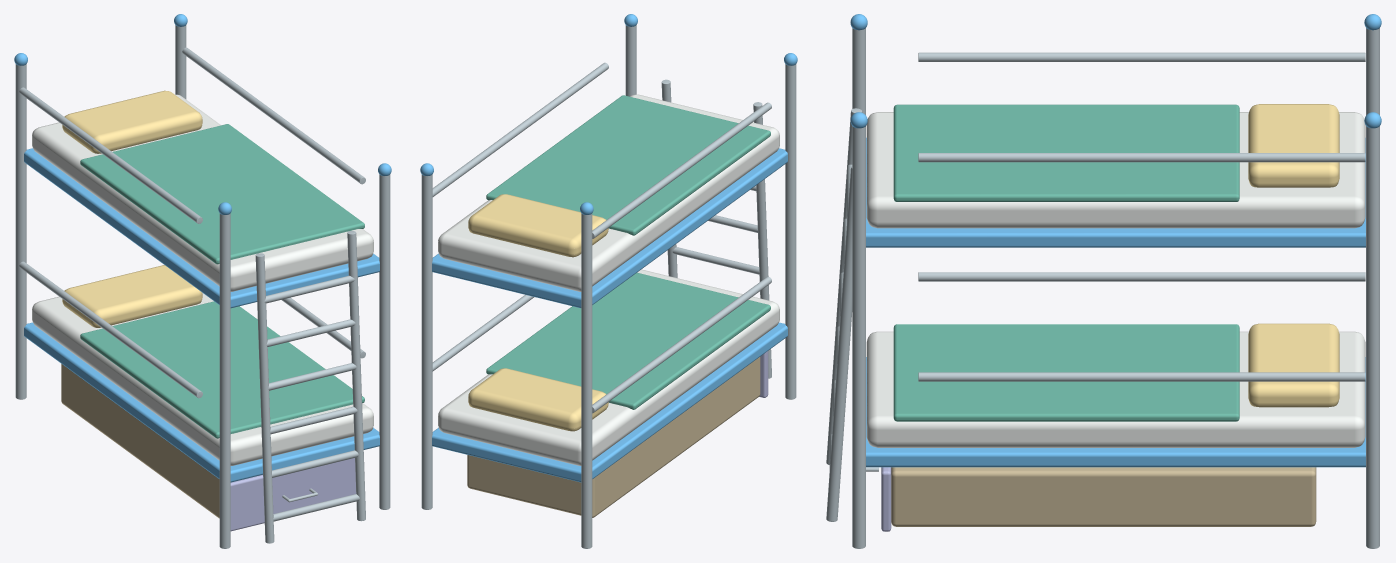
The model's file is bunk_bed.glb.
The picture shows the model from 3 angles, left to right: view 1: azimuth 30°, elevation 25°; view 2: azimuth 150°, elevation 25°; view 3: azimuth 270°, elevation 25°; orthographic projection. The views are drawn at different scales.
Visible parts, largest first — view 1: Blanket_2, Blanket, Mattress_2, Mattress, Storage_Box, Bed_Frame, Bed_Frame_2, Pillow_2, Pillow, Storage_Front, Bed_Post_2, Bed_Post_4 (+14 smaller); view 2: Blanket_2, Blanket, Storage_Box, Mattress_2, Mattress, Bed_Frame, Bed_Frame_2, Pillow, Pillow_2, Bed_Post, Bed_Post_3, Bed_Post_2 (+8 smaller); view 3: Blanket, Blanket_2, Storage_Box, Mattress_2, Mattress, Bed_Frame, Bed_Frame_2, Pillow, Pillow_2, Bed_Post_3, Bed_Post_4, Safety_Rail (+8 smaller).
Part boxes in pixels (x1,y1,x2,y2): Blanket_2: [80, 124, 364, 264]; Blanket: [80, 301, 364, 438]; Mattress_2: [32, 94, 373, 291]; Mattress: [32, 293, 373, 465]; Storage_Box: [61, 364, 219, 518]; Bed_Frame: [24, 322, 379, 482]; Bed_Frame_2: [24, 148, 379, 308]; Pillow_2: [62, 90, 202, 153]; Pillow: [62, 265, 202, 327]; Storage_Front: [230, 458, 356, 531]; Bed_Post_2: [219, 213, 230, 548]; Bed_Post_4: [379, 174, 390, 509]; Blanket_2: [486, 95, 770, 235]; Blanket: [486, 272, 770, 409]; Storage_Box: [467, 357, 760, 517]; Mattress_2: [438, 94, 779, 291]; Mattress: [438, 269, 779, 465]; Bed_Frame: [432, 322, 787, 482]; Bed_Frame_2: [432, 148, 787, 308]; Pillow: [468, 368, 608, 431]; Pillow_2: [468, 194, 608, 257]; Bed_Post: [581, 213, 592, 548]; Bed_Post_3: [421, 174, 432, 509]; Bed_Post_2: [785, 64, 796, 399]; Blanket: [893, 324, 1239, 421]; Blanket_2: [893, 104, 1239, 201]; Storage_Box: [891, 467, 1316, 526]; Mattress_2: [866, 112, 1365, 228]; Mattress: [866, 331, 1365, 447]; Bed_Frame: [866, 357, 1365, 467]; Bed_Frame_2: [866, 137, 1365, 247]; Pillow: [1248, 323, 1339, 407]; Pillow_2: [1248, 104, 1339, 187]; Bed_Post_3: [1366, 126, 1379, 548]; Bed_Post_4: [852, 126, 865, 548]; Safety_Rail: [918, 272, 1365, 281].
Bounding box in the file's own units: 1.01 × 1.93 × 2.25.
